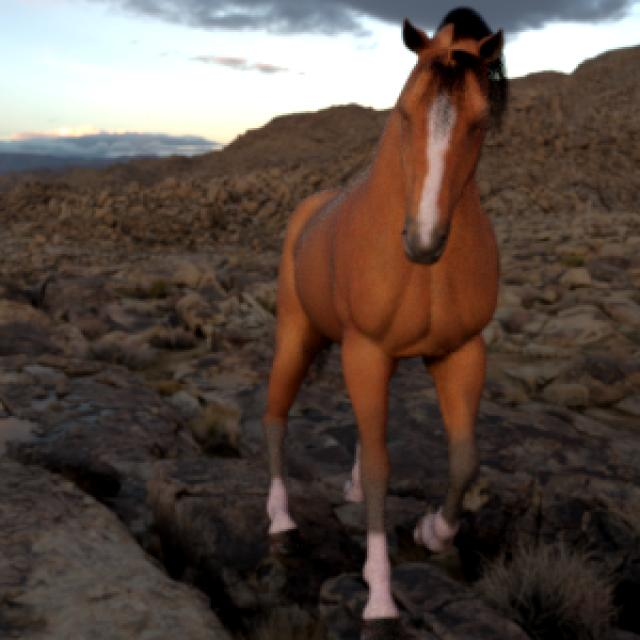horse: (264, 10, 502, 639)
